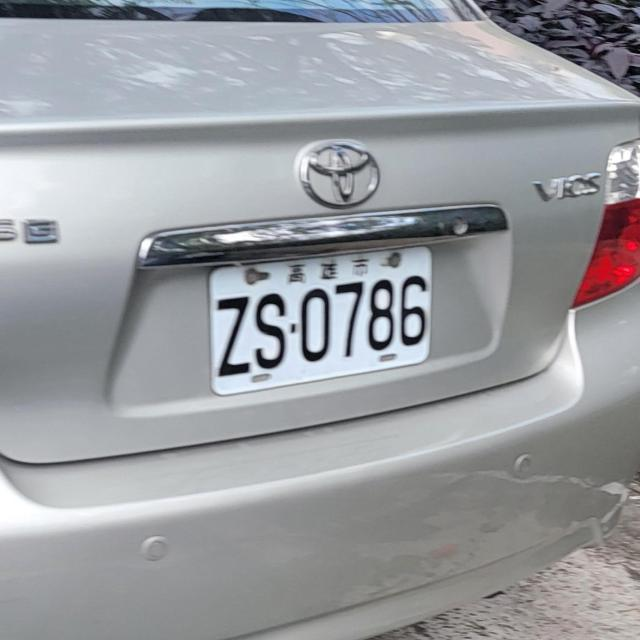W: (203, 242, 439, 401)
